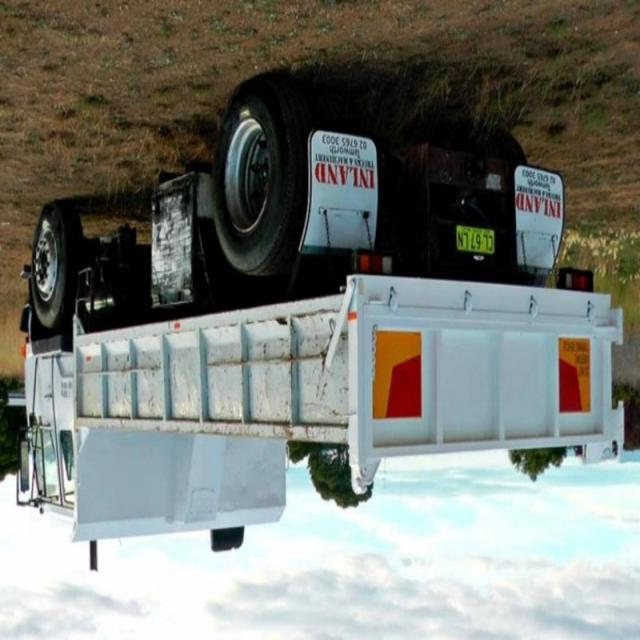truck: (15, 80, 622, 534)
